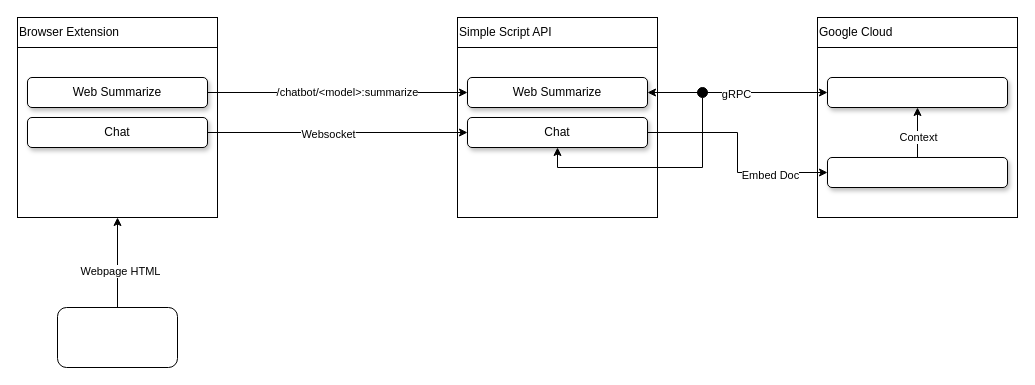
Image size: 1035x385. Some labels were removed from this diagram. The shapes that lost their labels are listed below. From the top down, each one's centre as x and y in pixels, then its label:
point (918, 93): Gemini
point (918, 173): Embeddings
point (117, 337): Client Browser
